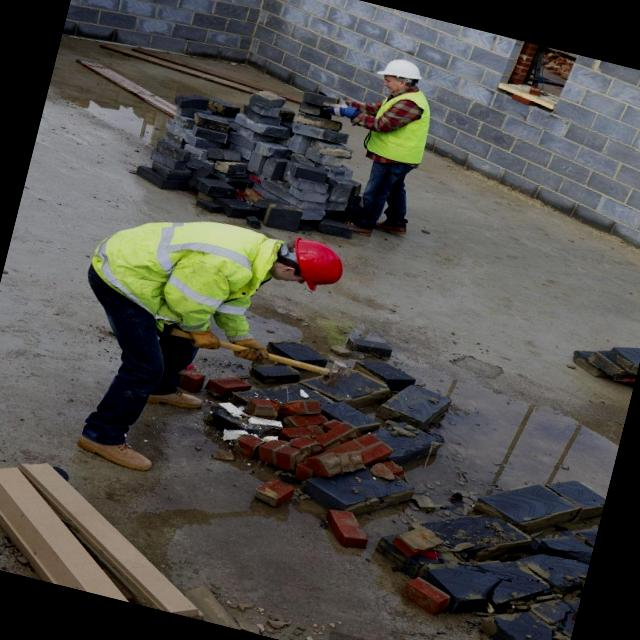helmet: (266, 232, 356, 304), (365, 46, 439, 99)
vest: (90, 188, 278, 358), (347, 82, 447, 182)
